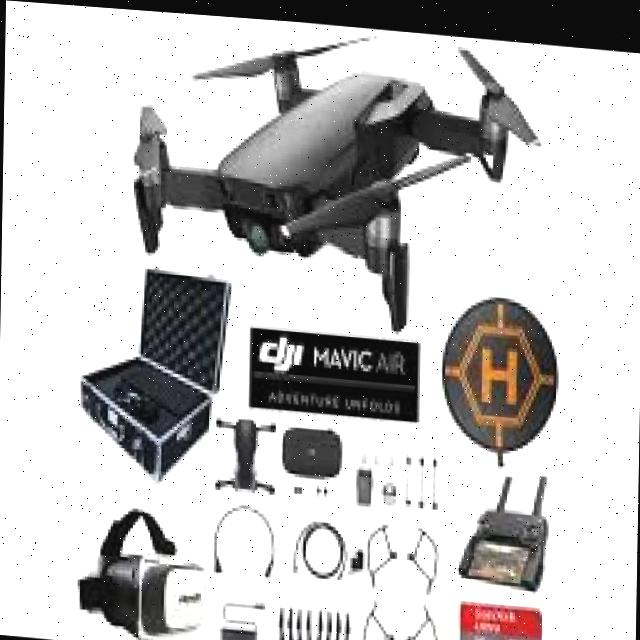drone: (116, 7, 550, 349)
